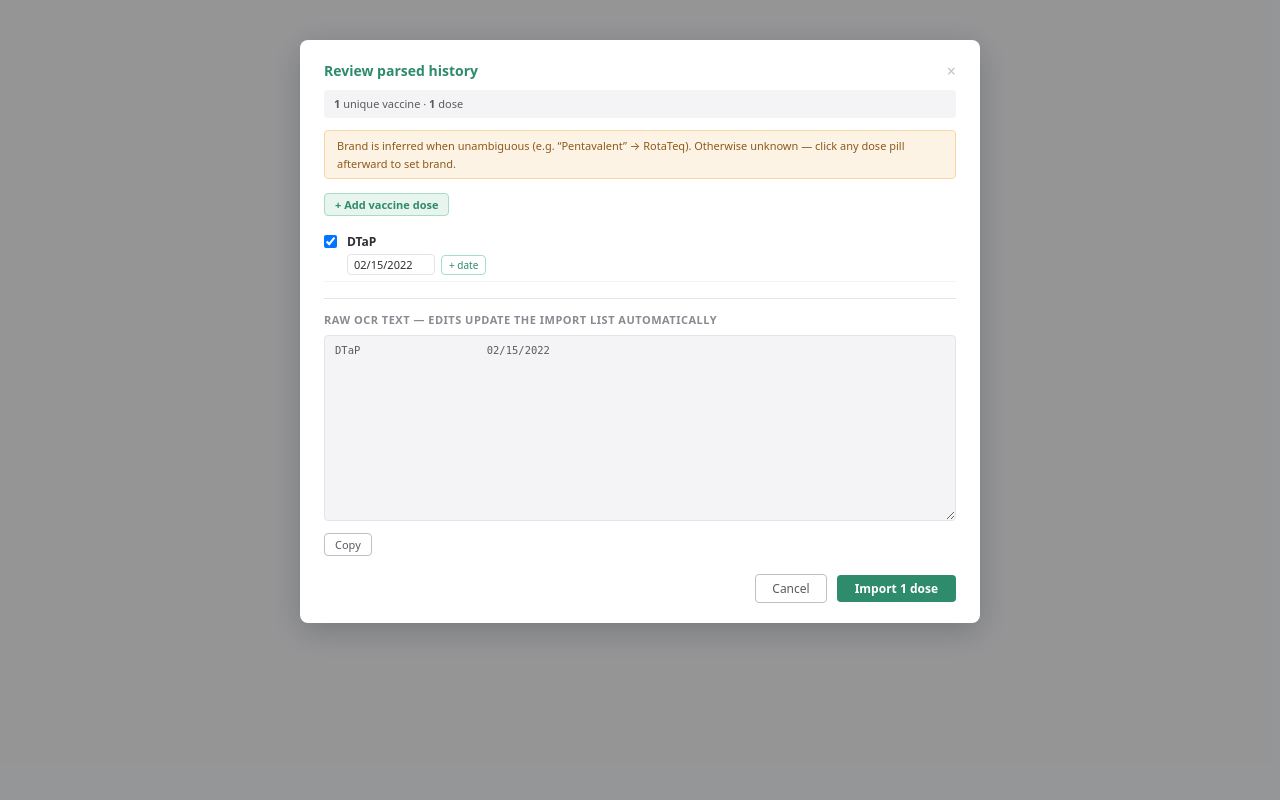
Test: ReviewModal — Feature A: inline + date per row › adding a date appends to the row and updates summary banner M
Check: the element with test id "ocr-summary-banner" shows "1", box [334,96,340,111]
// Open inline editor
Click the button with test id "ocr-add-date-btn-0" at (464, 265), box [441,255,486,275]
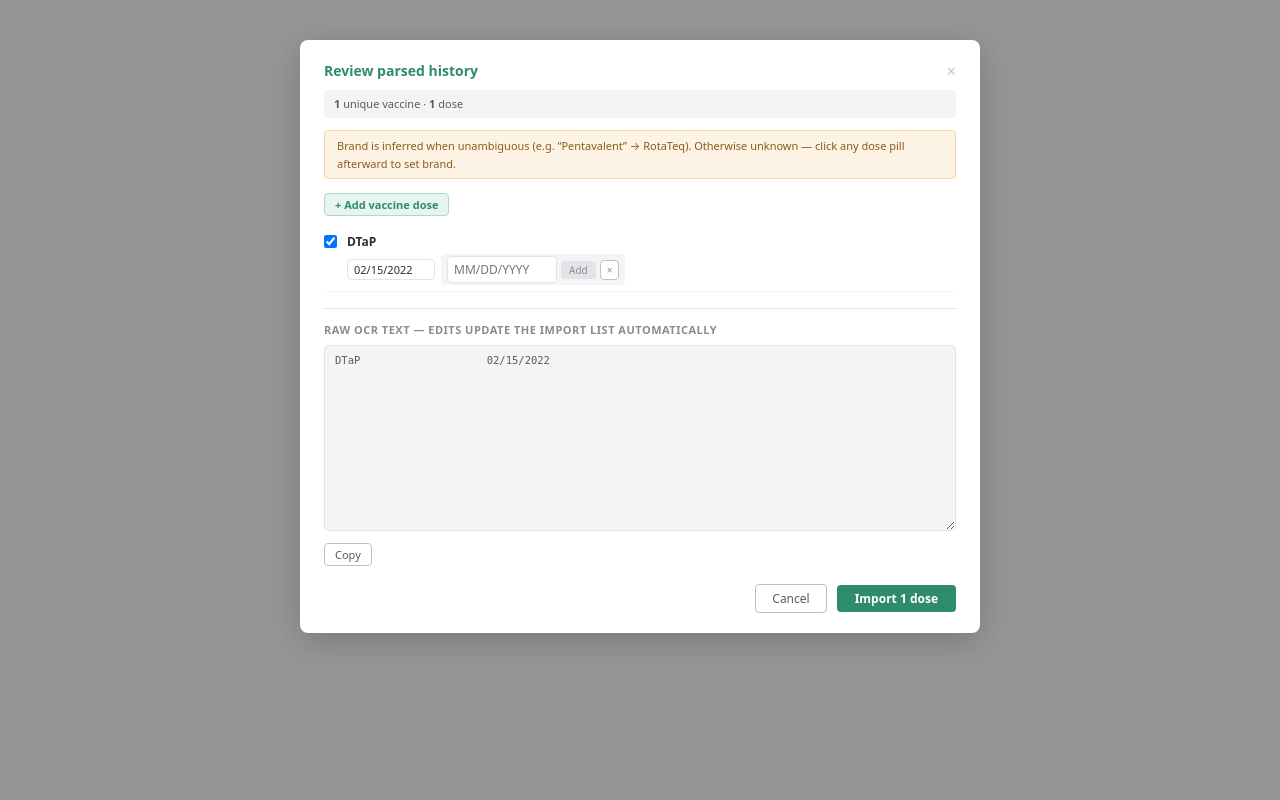
// Type a date into the DateField (the masked text input inside the editor)
Type "04/15/2022" into the field with placeholder "MM/DD/YYYY" at (502, 270), box [447,256,557,283]
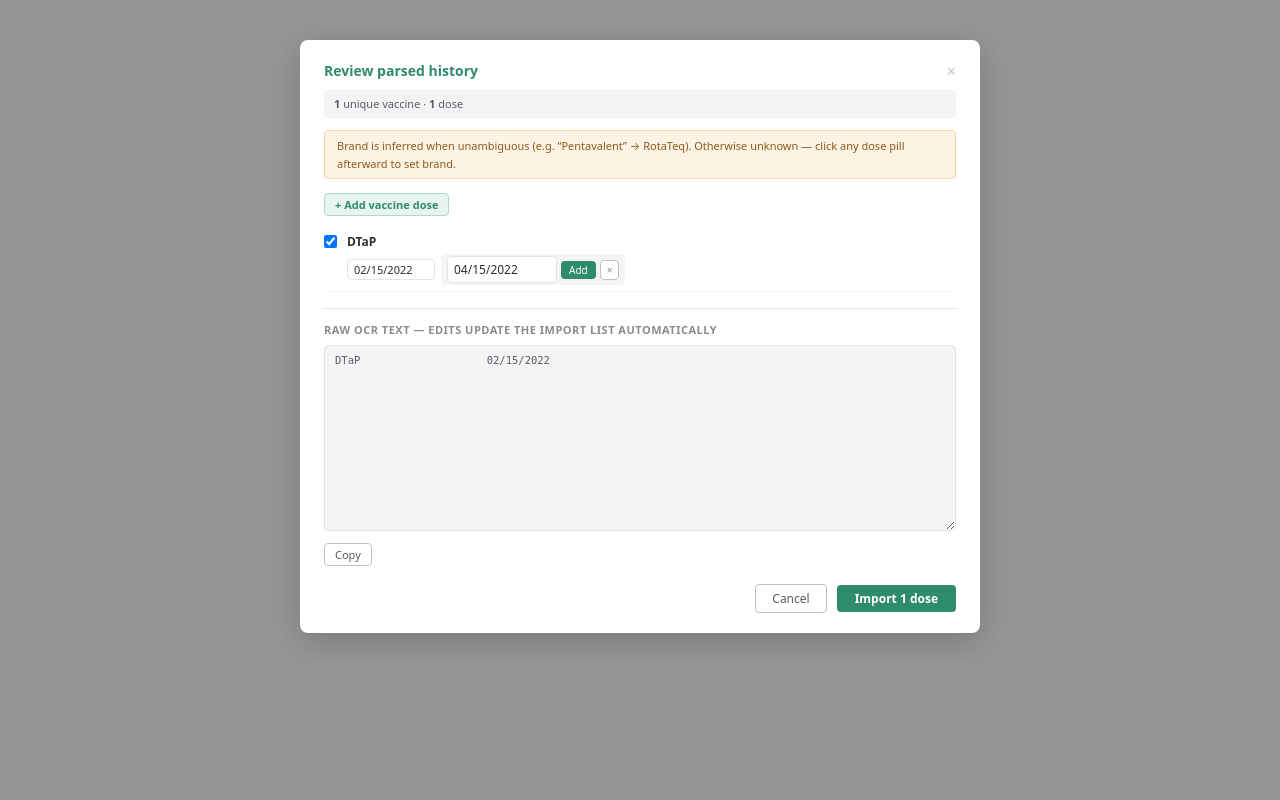
// Click Add
Click the button with test id "ocr-add-date-save-0" at (578, 270), box [561,261,596,279]
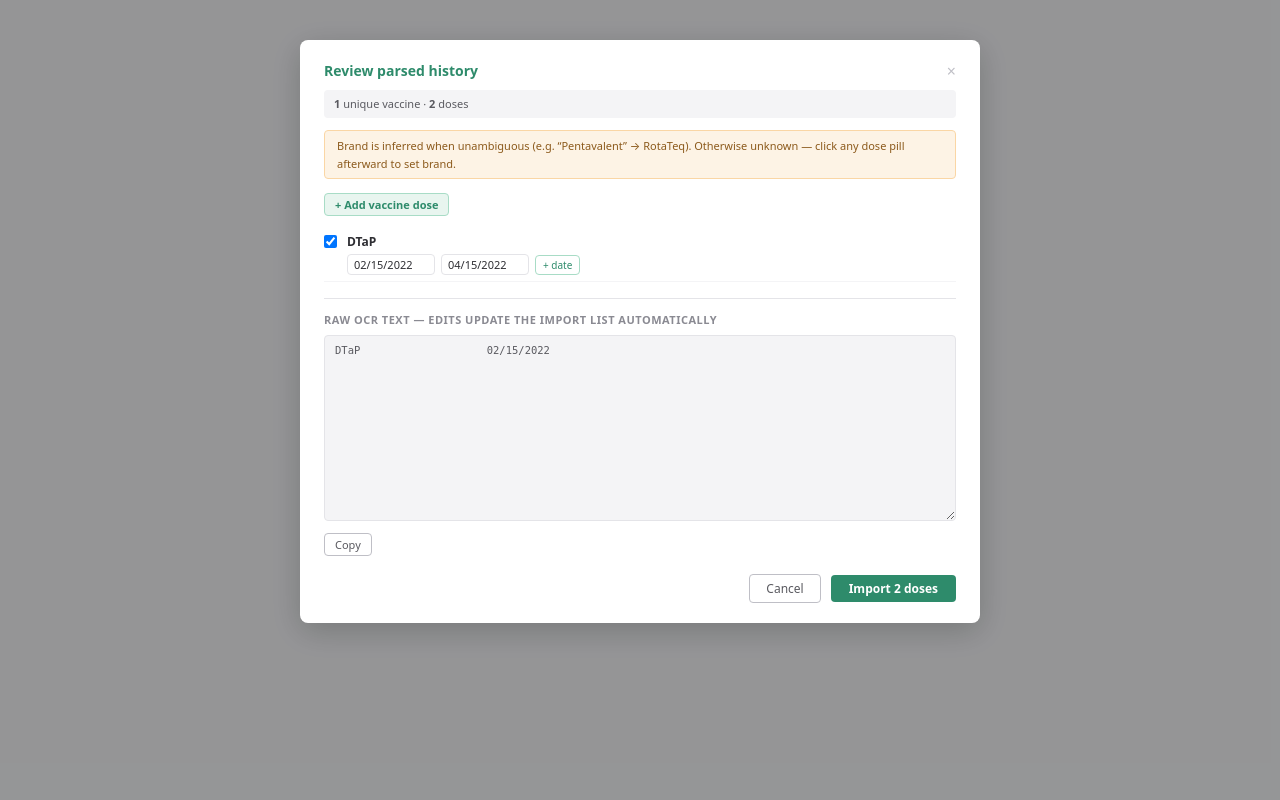
Check: the element with test id "ocr-summary-banner" shows "2", box [429,96,435,111]
Check: the element with test id "ocr-add-date-editor-0" is gone
